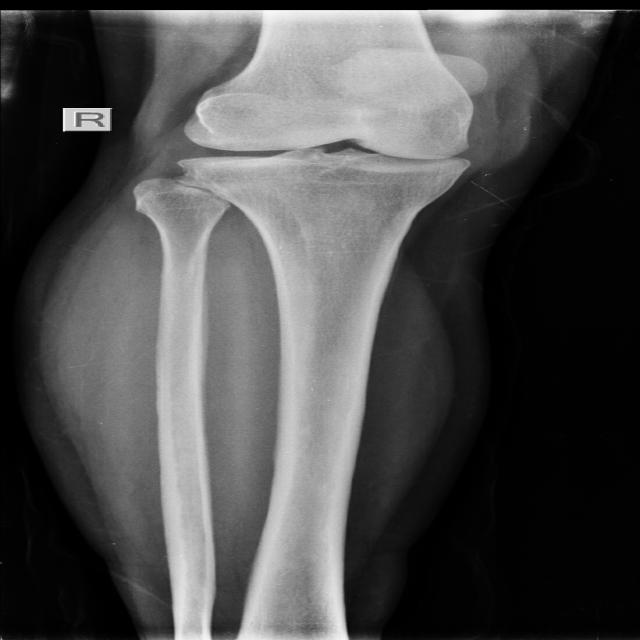normal: (178, 84, 470, 184)
